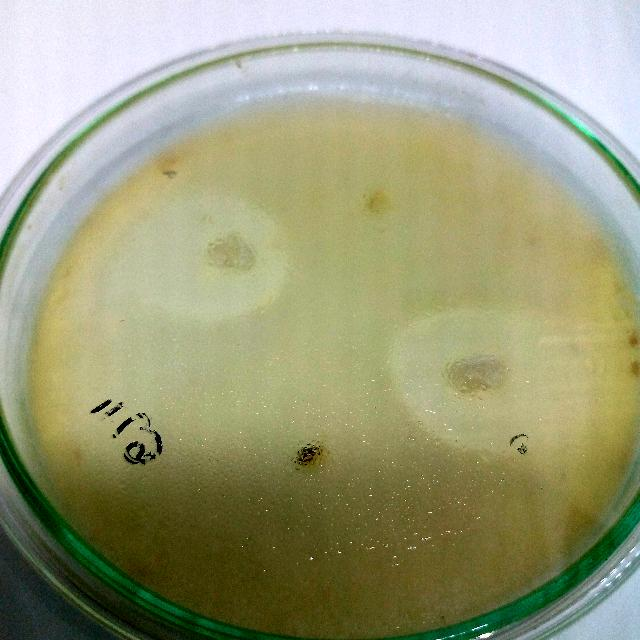colony: (439, 346, 509, 409), (202, 228, 258, 278), (284, 430, 334, 482), (359, 182, 396, 220)
